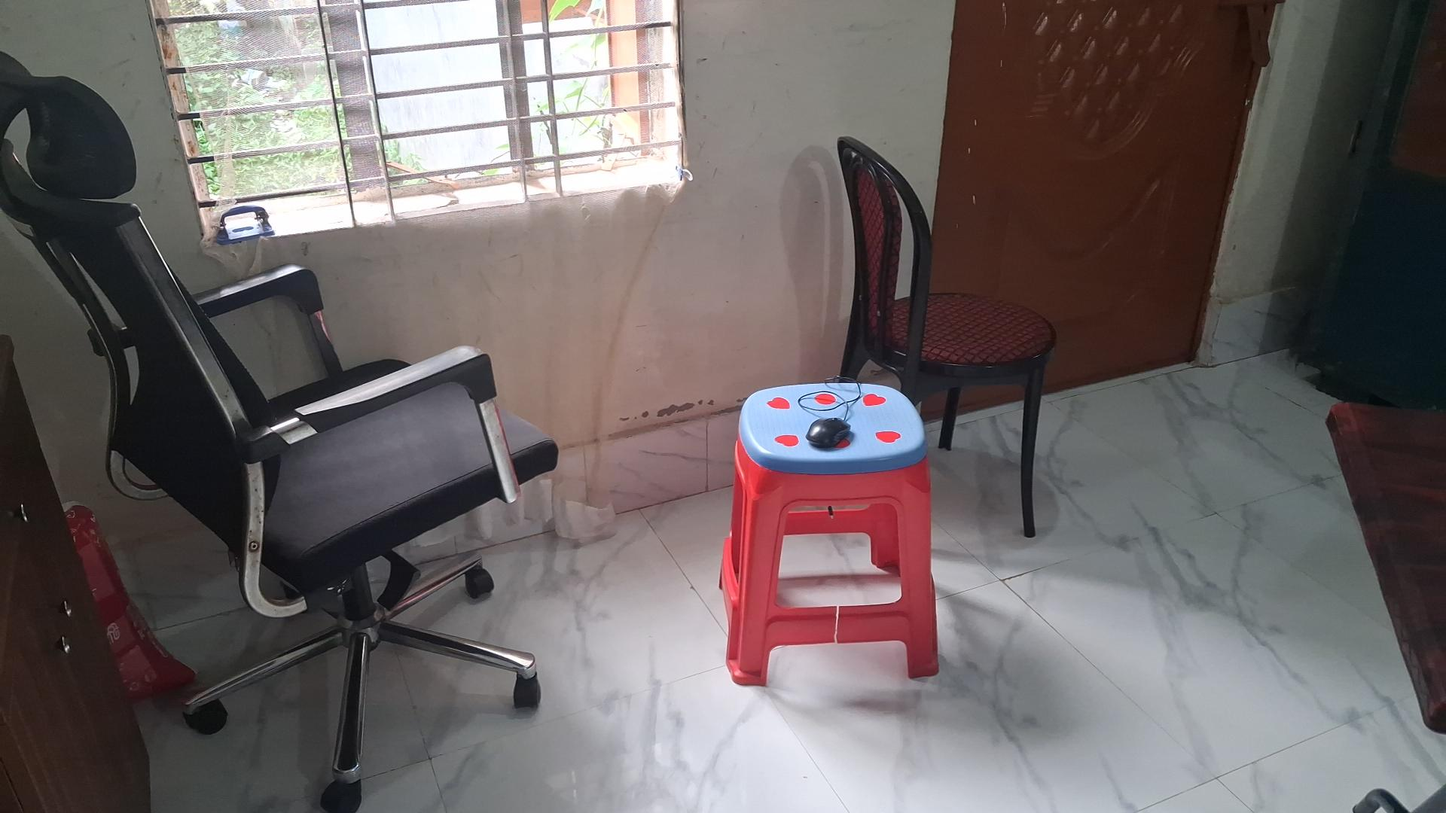Chair: (2, 51, 550, 788), (836, 135, 1057, 540)
Mouse: (809, 419, 853, 450)
Stool: (725, 379, 939, 687)
